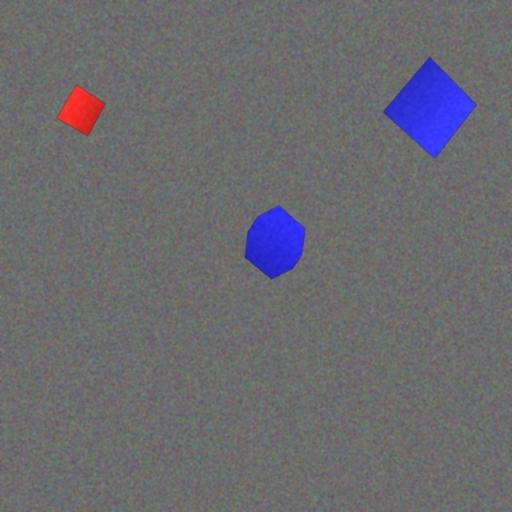BLUE_SQUARE: (382, 57, 478, 160)
RED_SQUARE: (56, 84, 106, 137)
